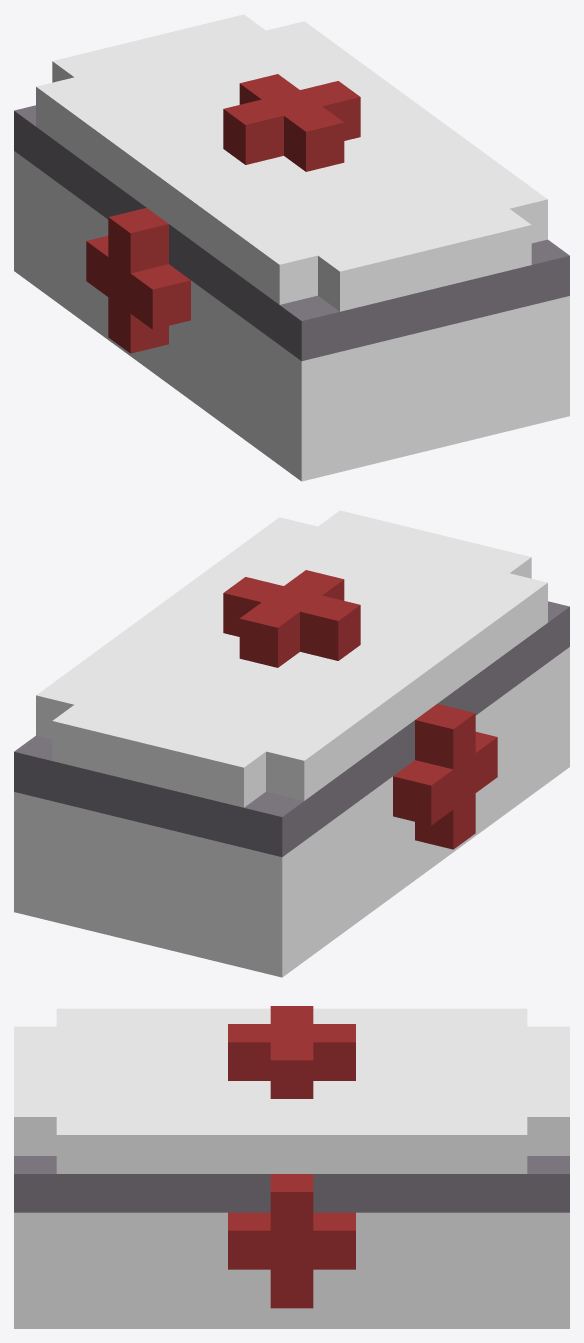
Rendered from BuffHealth.glb.
The picture shows the model from 3 angles, top to bottom: view 1: azimuth 30°, elevation 25°; view 2: azimuth 150°, elevation 25°; view 3: azimuth 270°, elevation 25°; orthographic projection. The views are drawn at different scales.
Visible parts, largest first — view 1: Health; view 2: Health; view 3: Health.
Boxes of the visible parts, left/top/right/bottom form: Health: left=14, top=14, right=569, bottom=481; Health: left=14, top=510, right=569, bottom=977; Health: left=14, top=1006, right=569, bottom=1328.
Size of the model in its own units: 0.855 by 0.57 by 1.24.
1 material, 1 textured.
